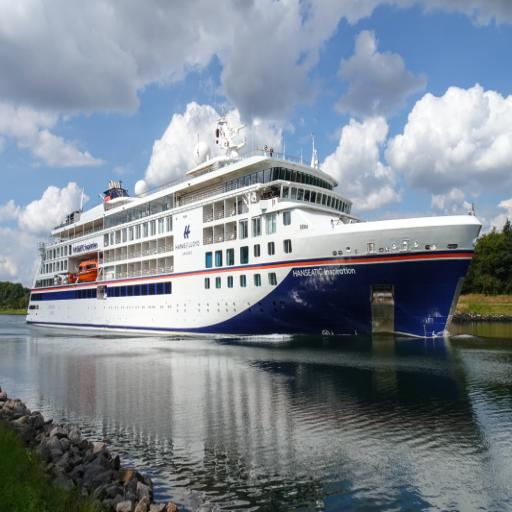cruises: (24, 98, 486, 342)
